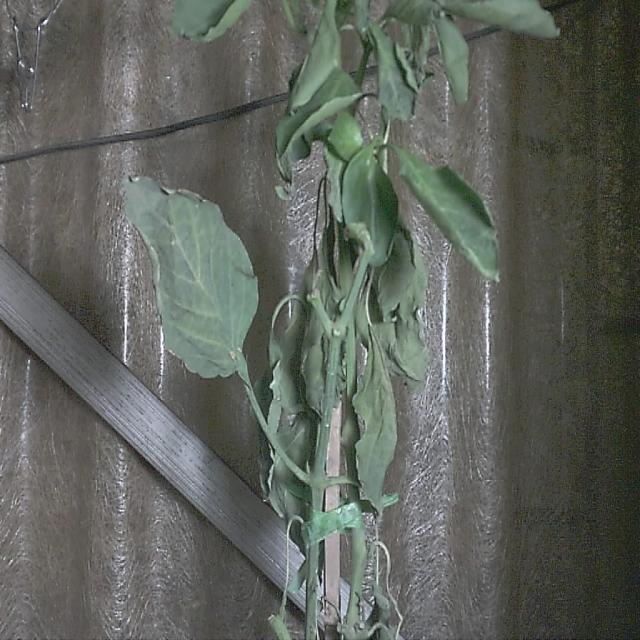Leaf: (122, 174, 260, 378), (399, 146, 502, 282), (353, 336, 397, 519), (342, 150, 399, 268)
